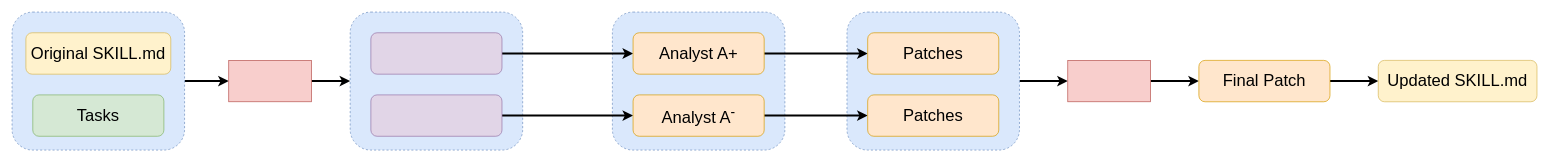
This 1549x162 diagram has some shape labels left out. The centre of each missing label's shape, as x and y in pixels:
Agent: the point at 270,81
Failure Traces: the point at 436,115
LLM: the point at 1109,81
Success Traces: the point at 436,53
